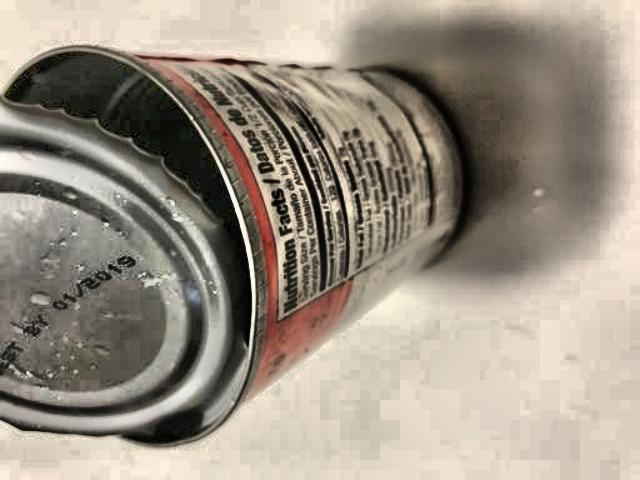Almennt: (0, 36, 479, 449)
